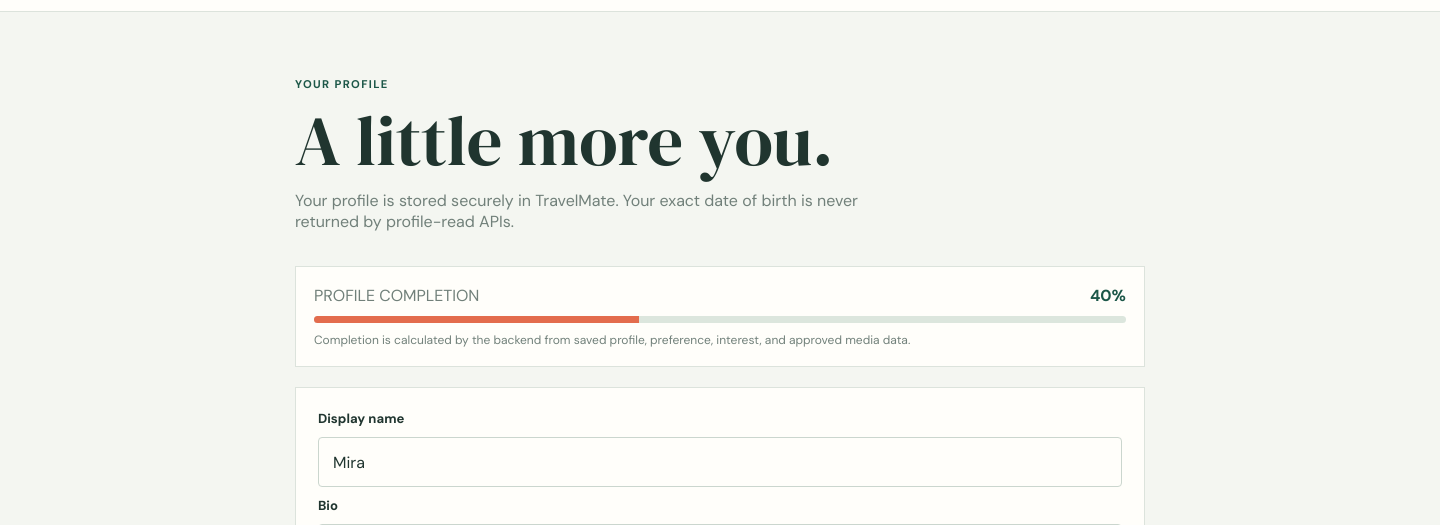
Test case: persisted profile and media UI › loads the backend profile and saves edits through the API
The width and height of the screenshot is (1440, 525).
Replace the text in the field labelled "Display name" with "Mira S" at (720, 462), box [318,437,1122,487]
(page scrolled)
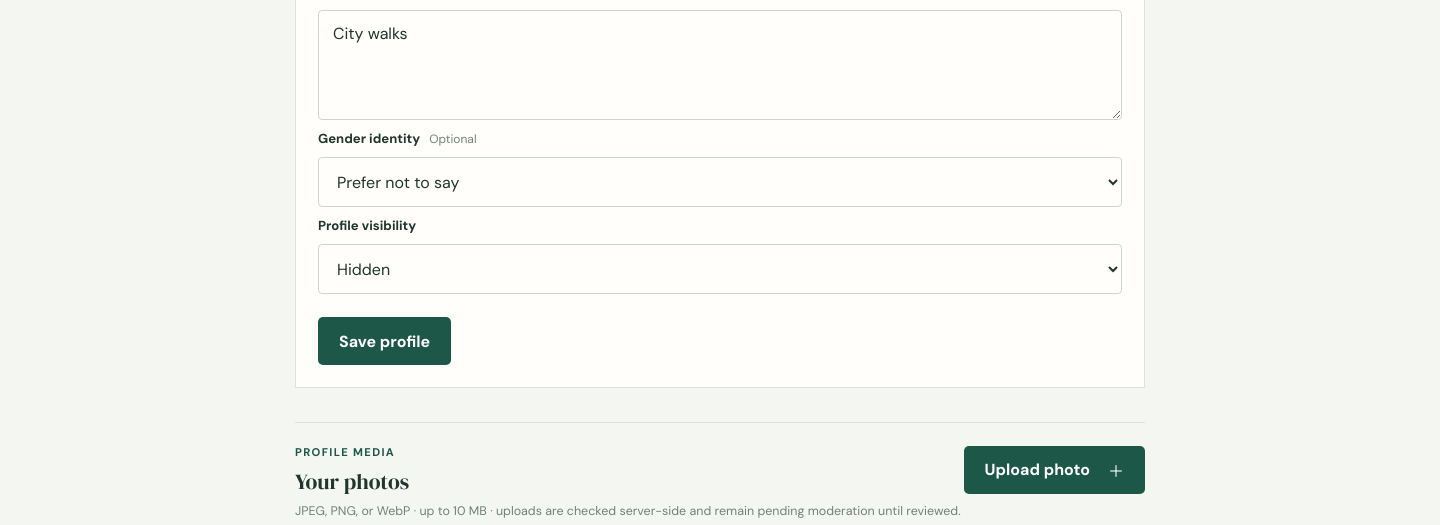
Click the button "Save profile" at (385, 341), box [318,317,451,365]
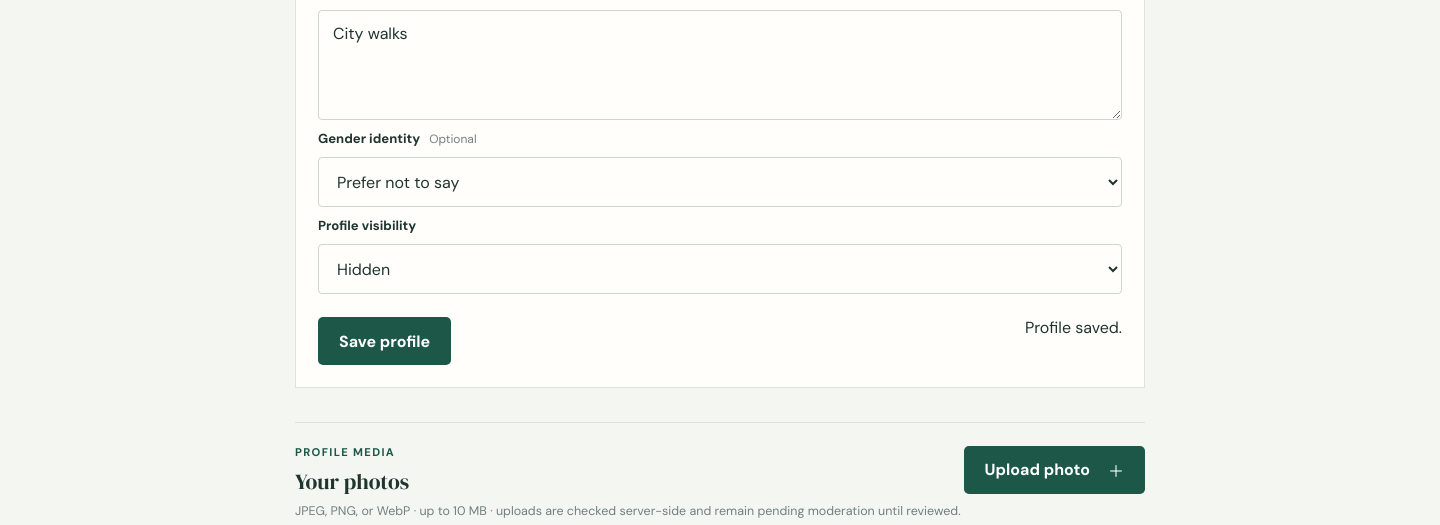
expect the message shows "Profile saved": met, box [1025,317,1122,338]
